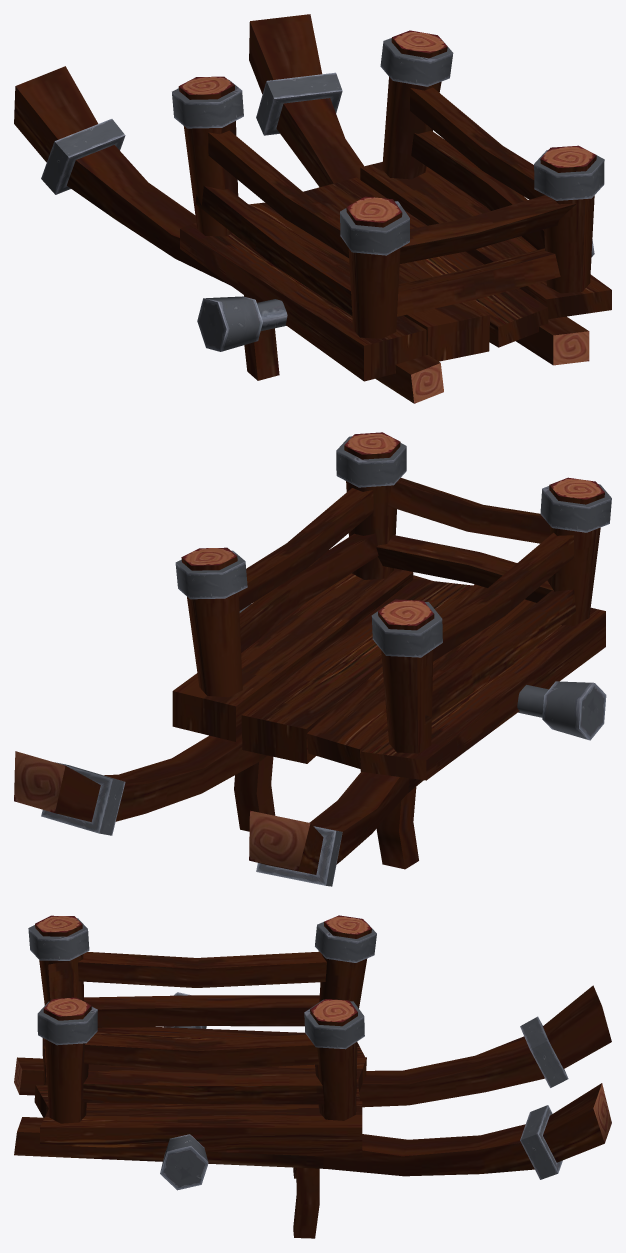
The model's file is SM_PROP_cart_02.glb.
3 renders of one model, top to bottom at view 1: azimuth 30°, elevation 25°; view 2: azimuth 150°, elevation 25°; view 3: azimuth 270°, elevation 25°, orthographic. The views are drawn at different scales.
Visible parts, largest first — view 1: SM_PROP_cart_02_EXPORT; view 2: SM_PROP_cart_02_EXPORT; view 3: SM_PROP_cart_02_EXPORT.
Part boxes in pixels (x1,y1,x2,y2): SM_PROP_cart_02_EXPORT: (14,14,611,403); SM_PROP_cart_02_EXPORT: (14,432,611,886); SM_PROP_cart_02_EXPORT: (14,915,611,1238).
Bounding box in the file's own units: 2.68 × 1.93 × 4.38.
3 materials, 3 textured.
